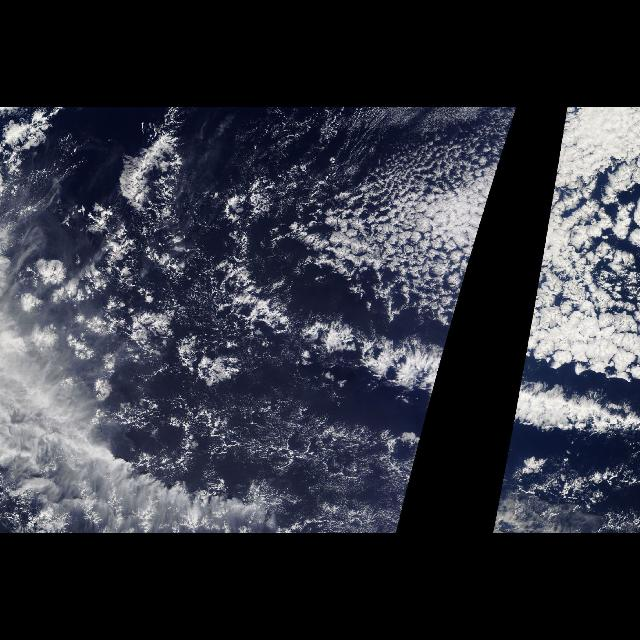Fish: (215, 254, 473, 463), (505, 254, 633, 463)
Flower: (318, 120, 516, 392), (518, 120, 638, 392)
Sugar: (304, 307, 458, 445), (509, 307, 639, 445)
